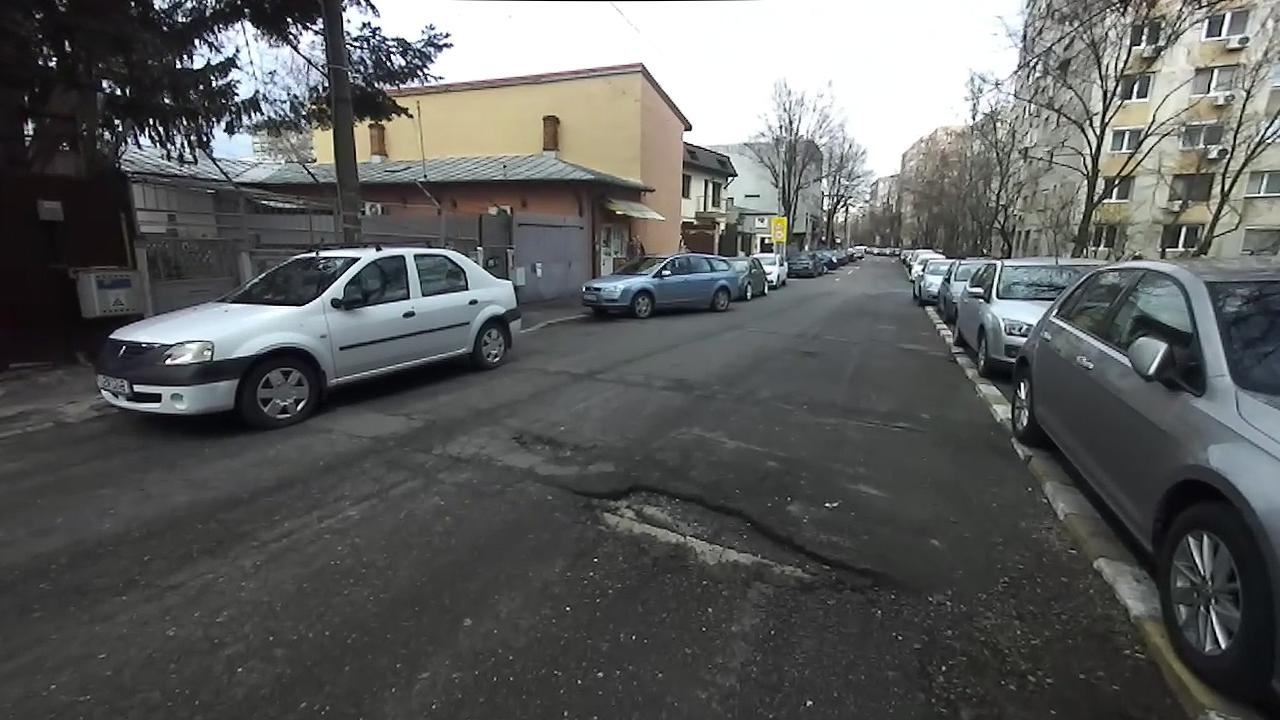pothole: (558, 480, 899, 602), (507, 423, 587, 465), (843, 411, 928, 436)
